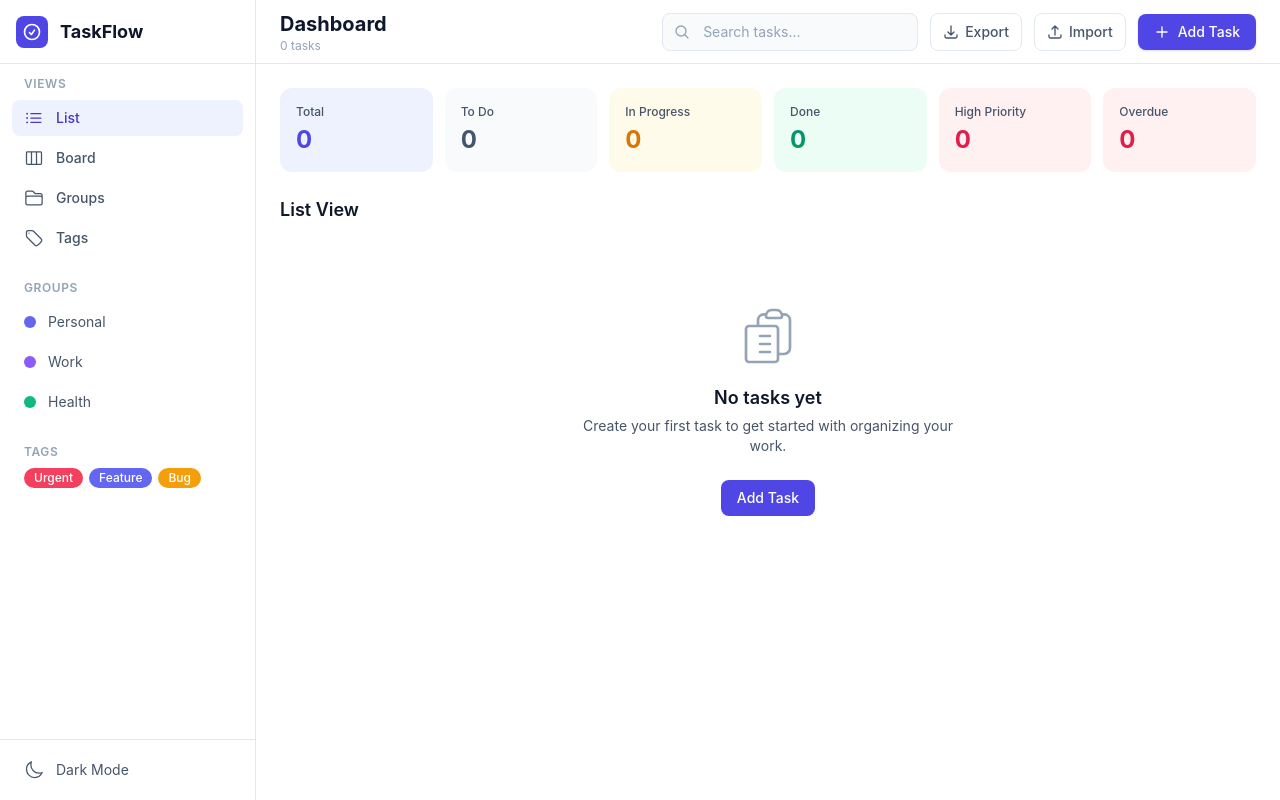
Test case: App integration › search filters tasks in real-time
Click the button "Add Task" in the row of "Dashboard" at x=1197, y=32, box [1138, 14, 1256, 50]
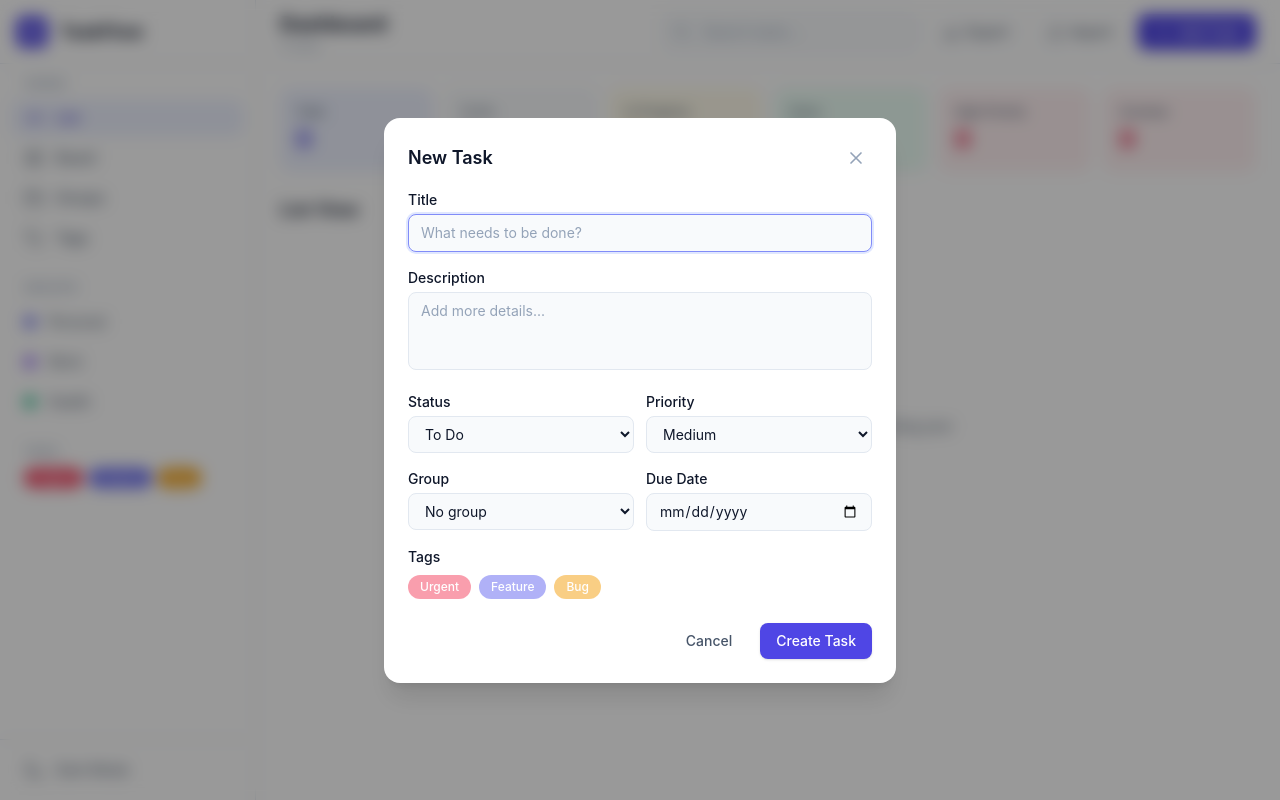
Type "Buy groceries" into the field with placeholder "What needs to be done?" at x=640, y=232, box [408, 214, 872, 252]
Click the button "Create Task" at x=816, y=640, box [760, 622, 872, 658]
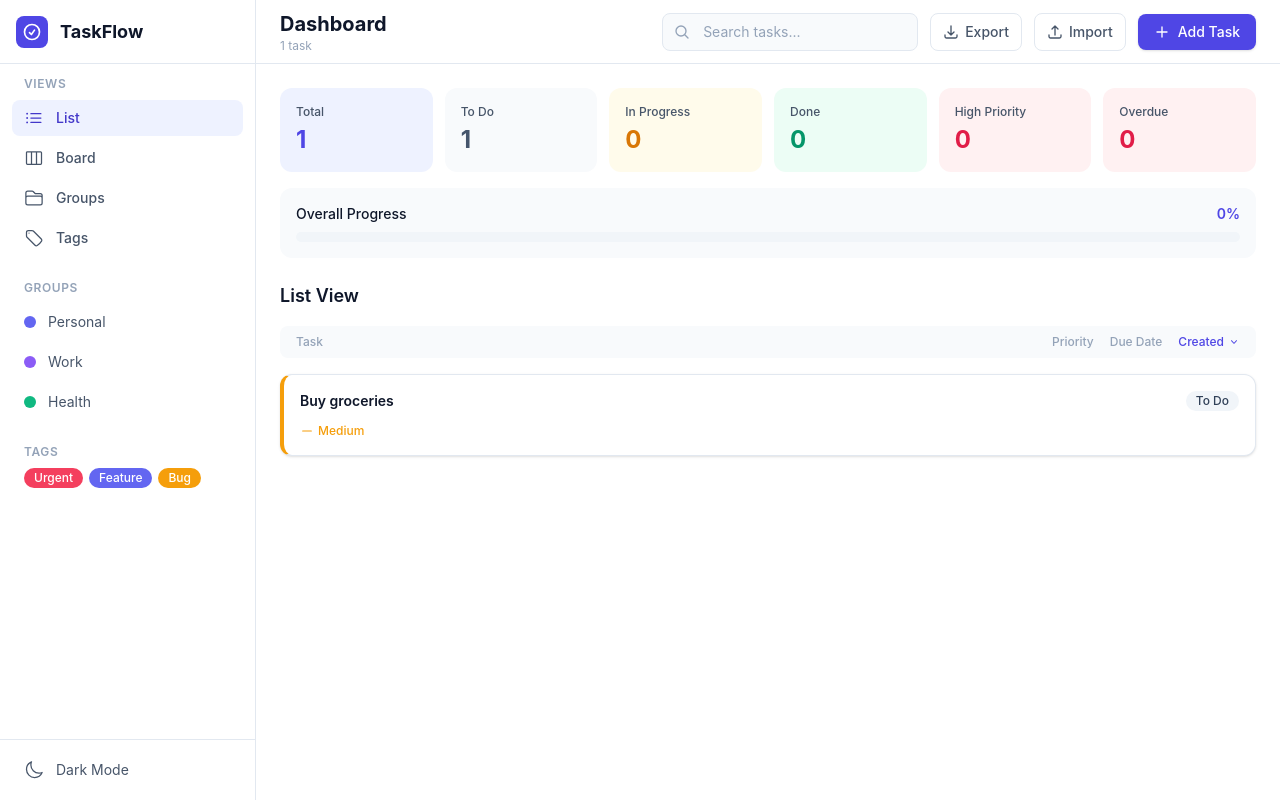
Click the button "Add Task" at x=1197, y=32, box [1138, 14, 1256, 50]
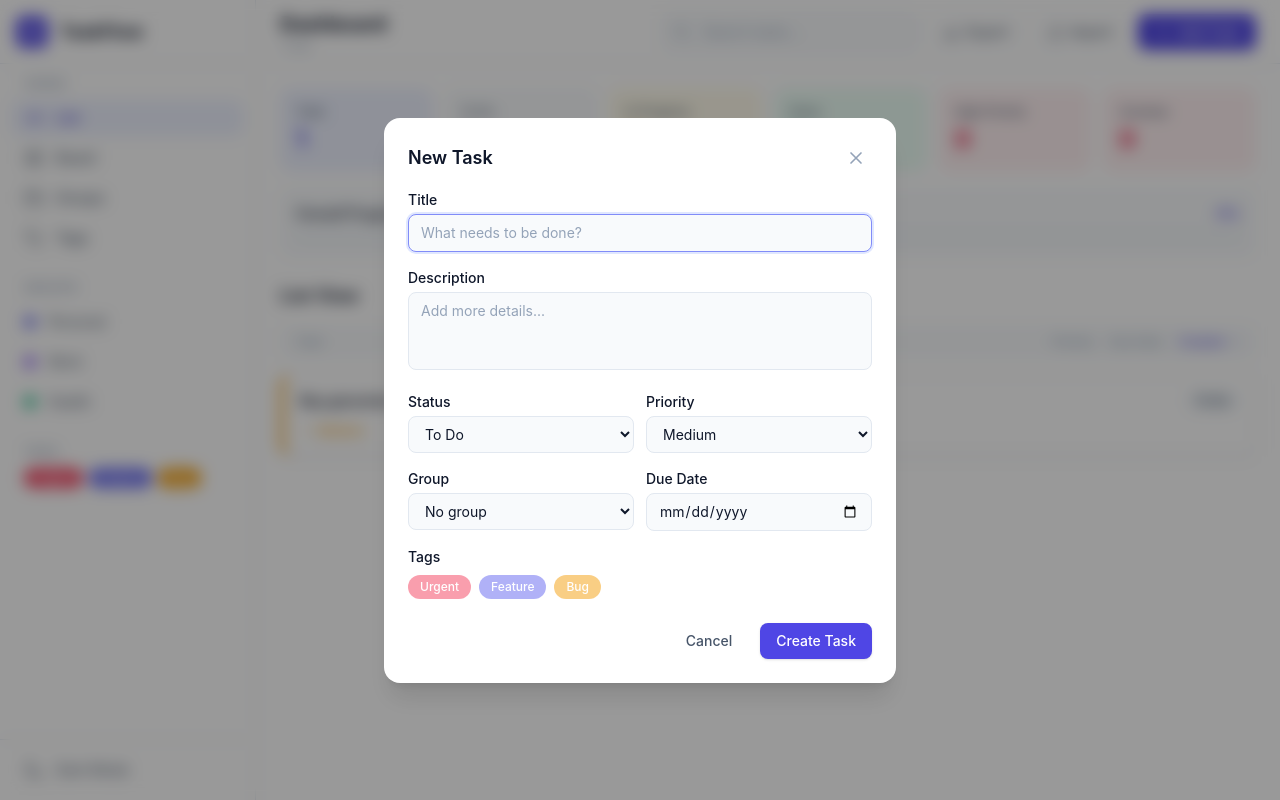
Type "Read a book" into the field with placeholder "What needs to be done?" at x=640, y=232, box [408, 214, 872, 252]
Click the button "Create Task" at x=816, y=640, box [760, 622, 872, 658]
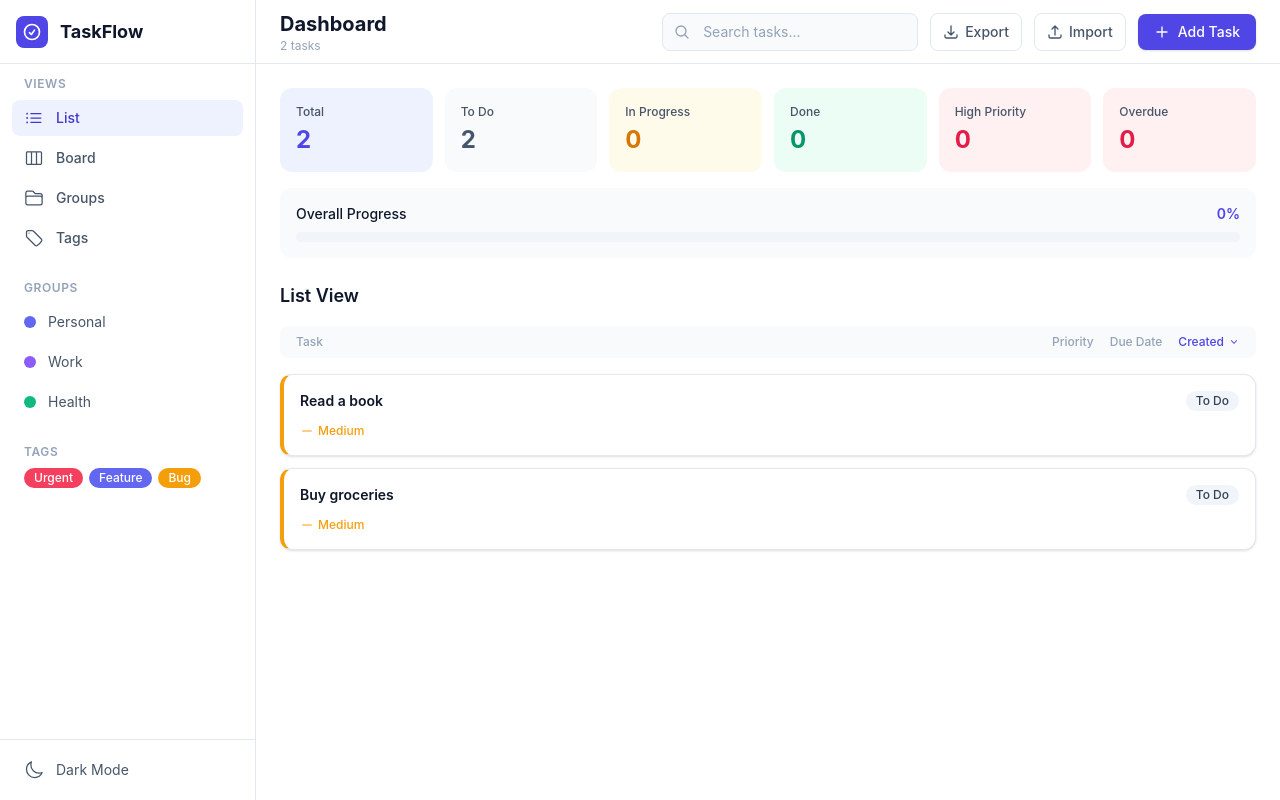
Type "book" into the field with placeholder "Search tasks..." at x=790, y=32, box [662, 12, 918, 50]
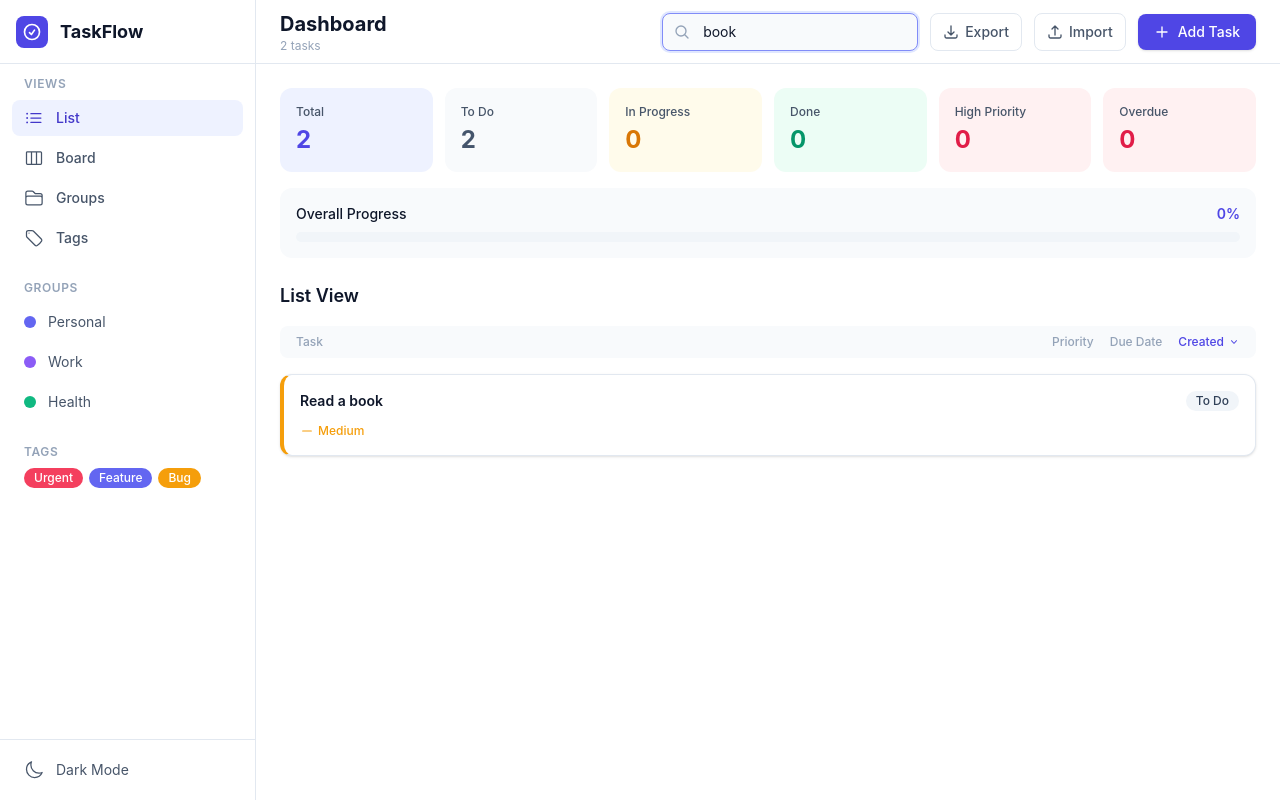
Expected: the heading "Read a book" is shown, [300, 391, 383, 411]
Expected: the heading "Buy groceries" is gone
Clear the field with placeholder "Search tasks..." at x=790, y=32, box [662, 12, 918, 50]
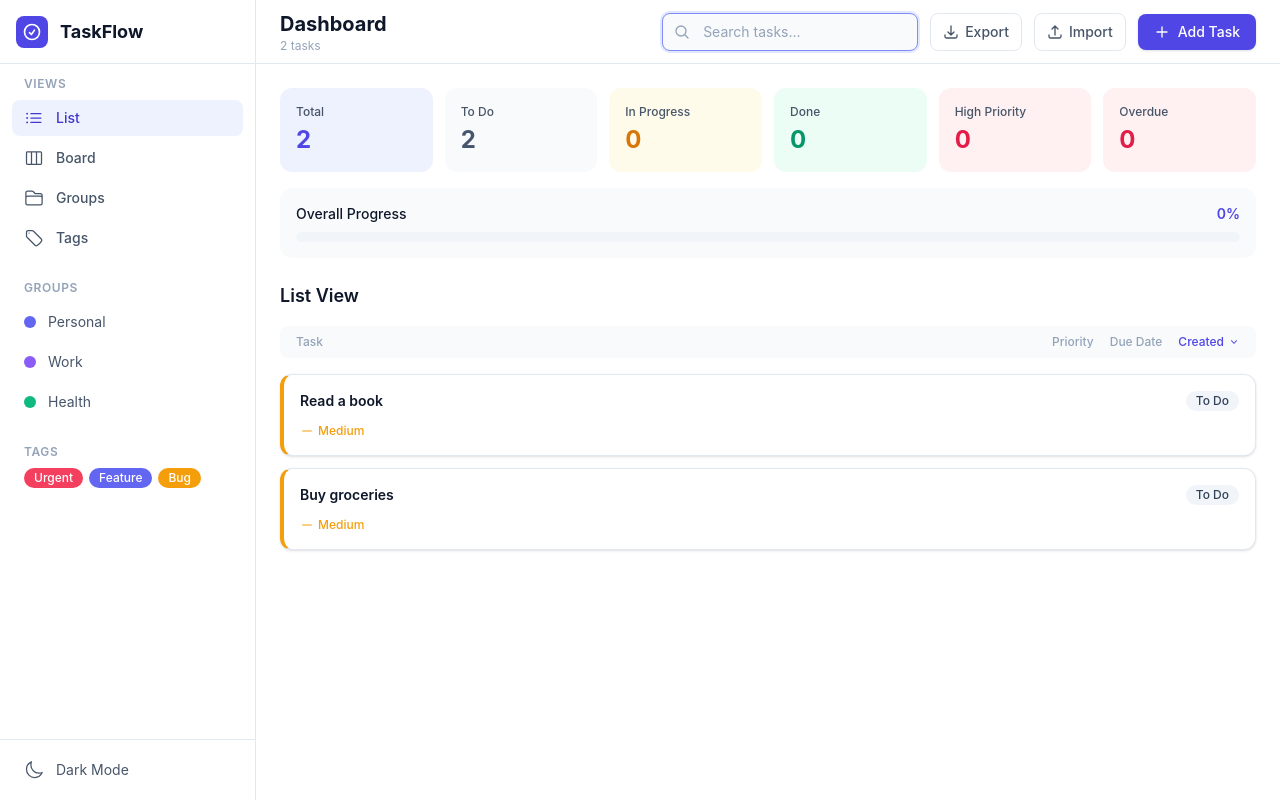
Expected: the heading "Read a book" is shown, [300, 391, 383, 411]
Expected: the heading "Buy groceries" is shown, [300, 485, 394, 505]
